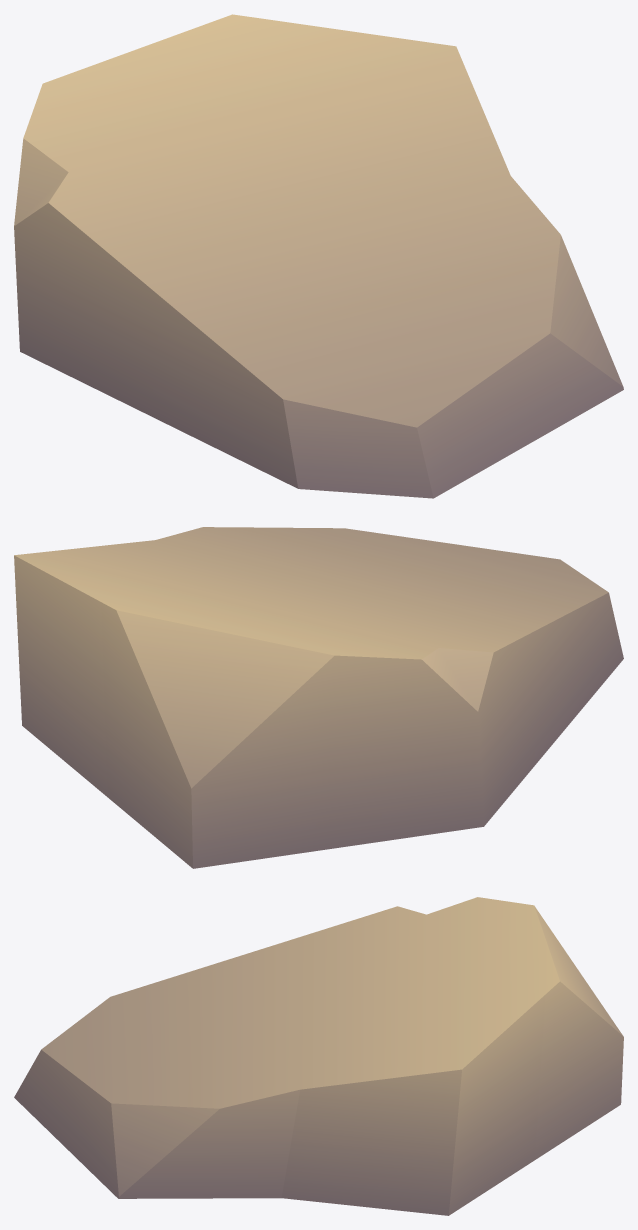
Rendered from rock-4.glb.
3 views of the same model, one above another, from view 1: azimuth 30°, elevation 25°; view 2: azimuth 150°, elevation 25°; view 3: azimuth 270°, elevation 25° (orthographic). The views are drawn at different scales.
Parts seen in each view (by area): view 1: Rock4; view 2: Rock4; view 3: Rock4.
Boxes of the visible parts, box(x1,y1,x2,y2) form: Rock4: box(14, 14, 623, 498); Rock4: box(14, 527, 623, 868); Rock4: box(14, 897, 623, 1215).
Size of the model in its own units: 1.64 by 0.7121 by 2.33.
Materials: 1 (1 with a texture image).
